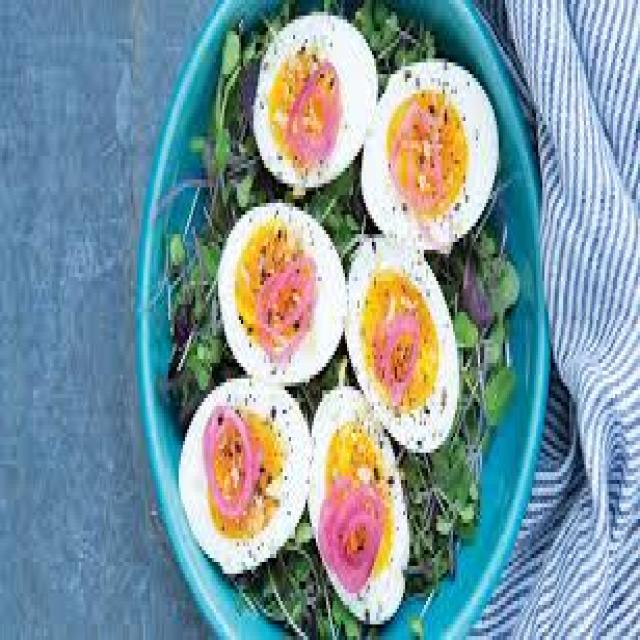boiled egg: (362, 59, 498, 253), (179, 379, 311, 577), (345, 235, 461, 452), (308, 387, 409, 624), (219, 200, 347, 386), (252, 12, 378, 191)
